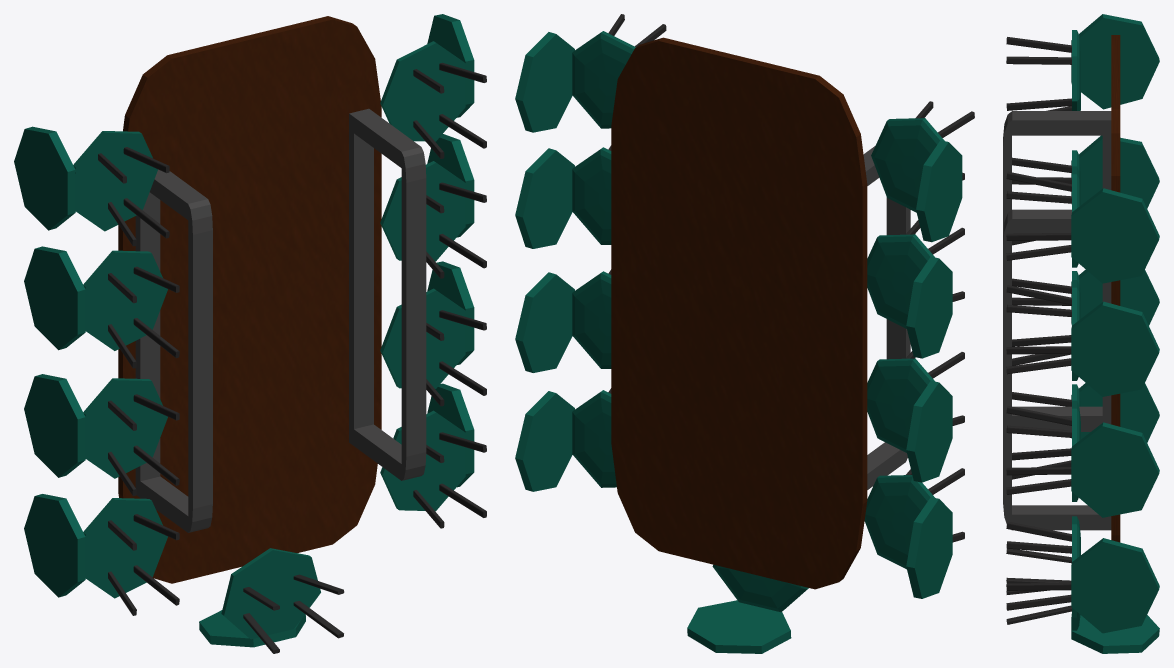
File: MeetingRoom_MeetingTable.fbx
3 views of the same model, side by side, from view 1: azimuth 30°, elevation 25°; view 2: azimuth 150°, elevation 25°; view 3: azimuth 270°, elevation 25° (orthographic). The views are drawn at different scales.
Visible parts, largest first — view 1: meetingdesk; view 2: meetingdesk; view 3: meetingdesk.
Part boxes in pixels (left/top/right/bottom): meetingdesk: left=14, top=14, right=486, bottom=653; meetingdesk: left=515, top=14, right=974, bottom=653; meetingdesk: left=1003, top=14, right=1159, bottom=653.
Bounding box in the file's own units: 5 × 6.75 × 1.7.
